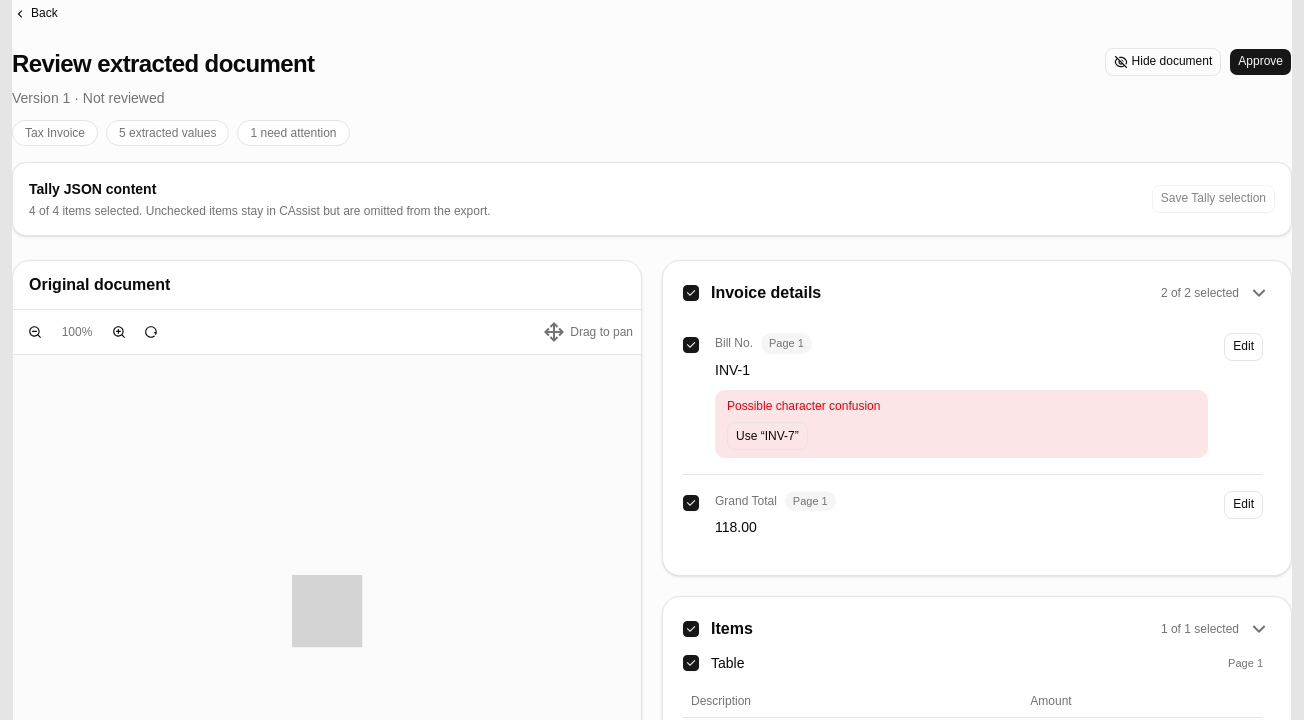
Test case: ReviewPage › collapses sections and moves between field editors with Tab
The width and height of the screenshot is (1304, 720).
Step 1. Click the button with aria-label "Collapse Invoice details section" → [766, 292], box 711,281 -> 1271,305
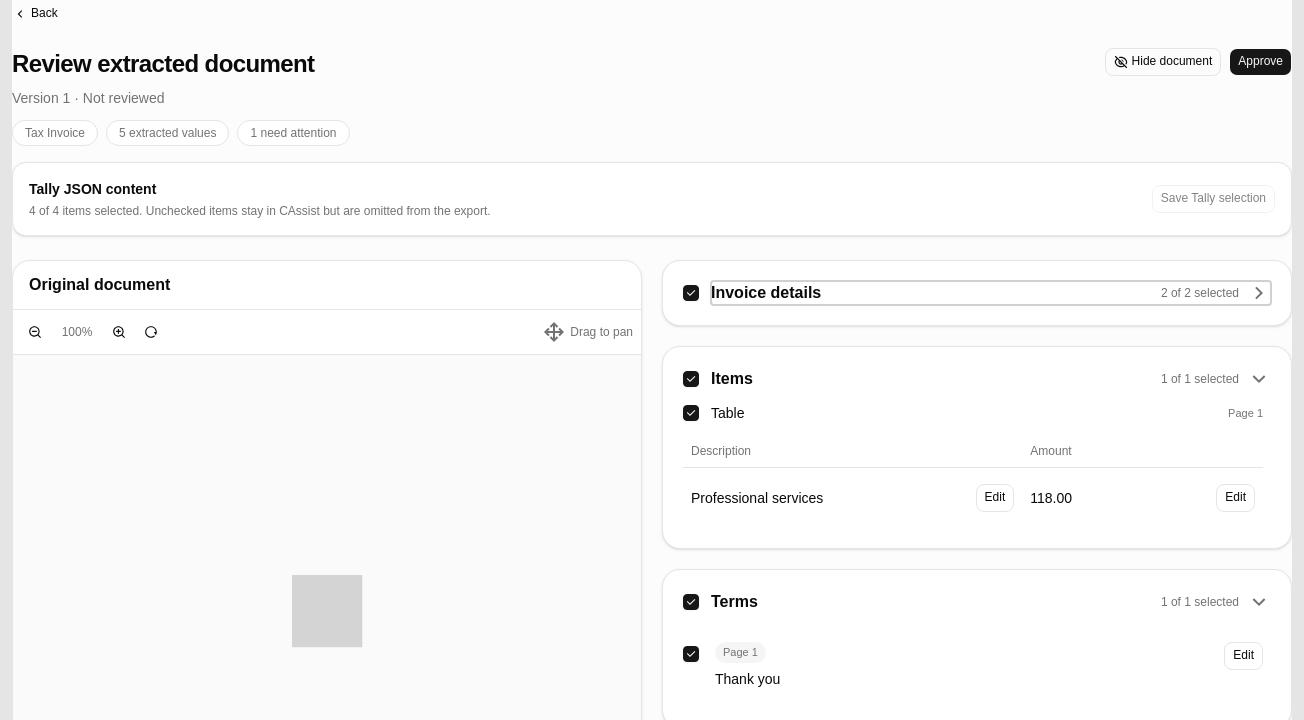
Check: the text "Bill No." is gone
Step 2. Click the button with aria-label "Expand Invoice details section" → [766, 292], box 711,281 -> 1271,305
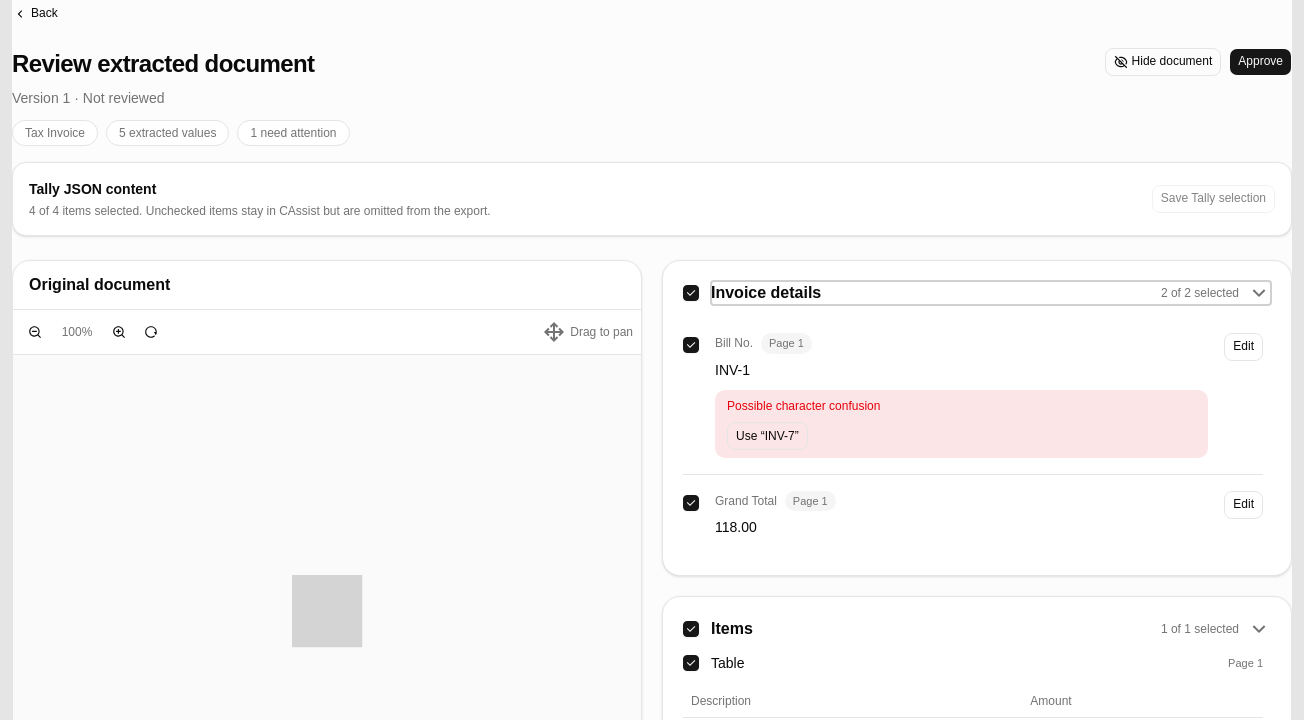
Step 3. Click the button "Edit" in the row of "Bill No." → [1244, 347], box 1224,333 -> 1263,361
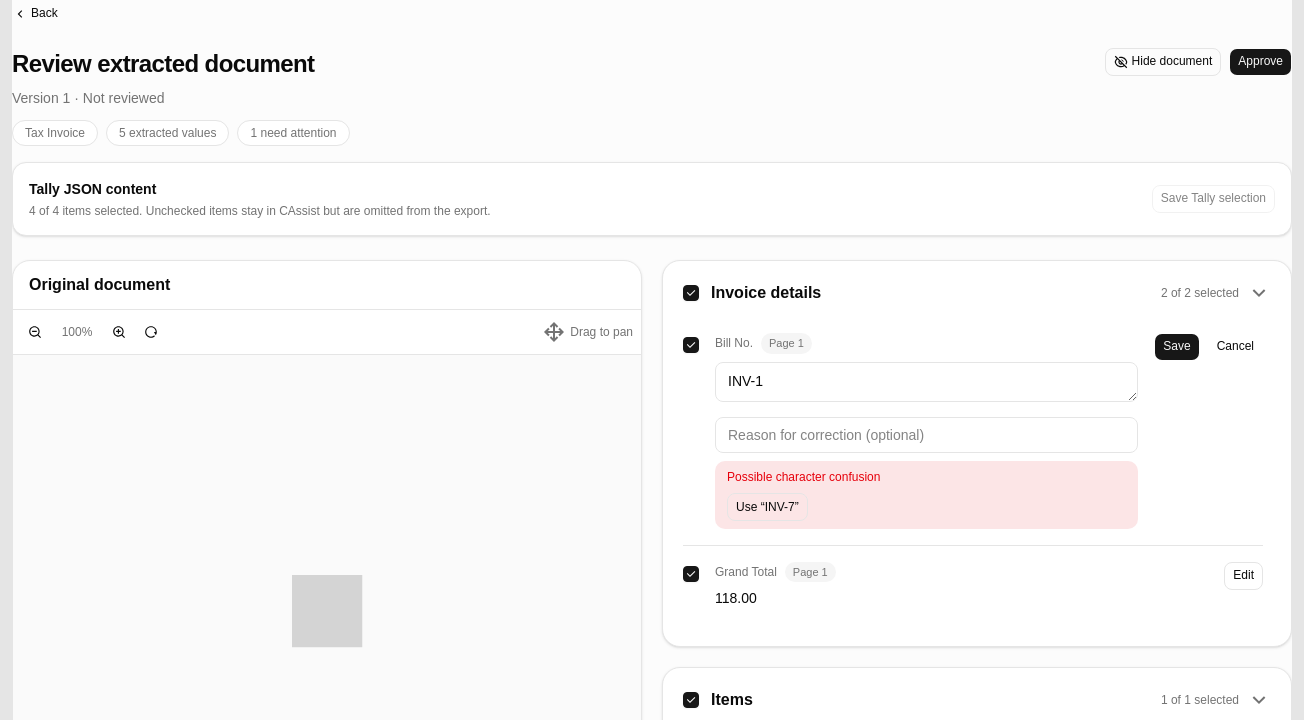
Step 4. Press Tab in the text box named "Bill No.", box 715,362 -> 1138,402
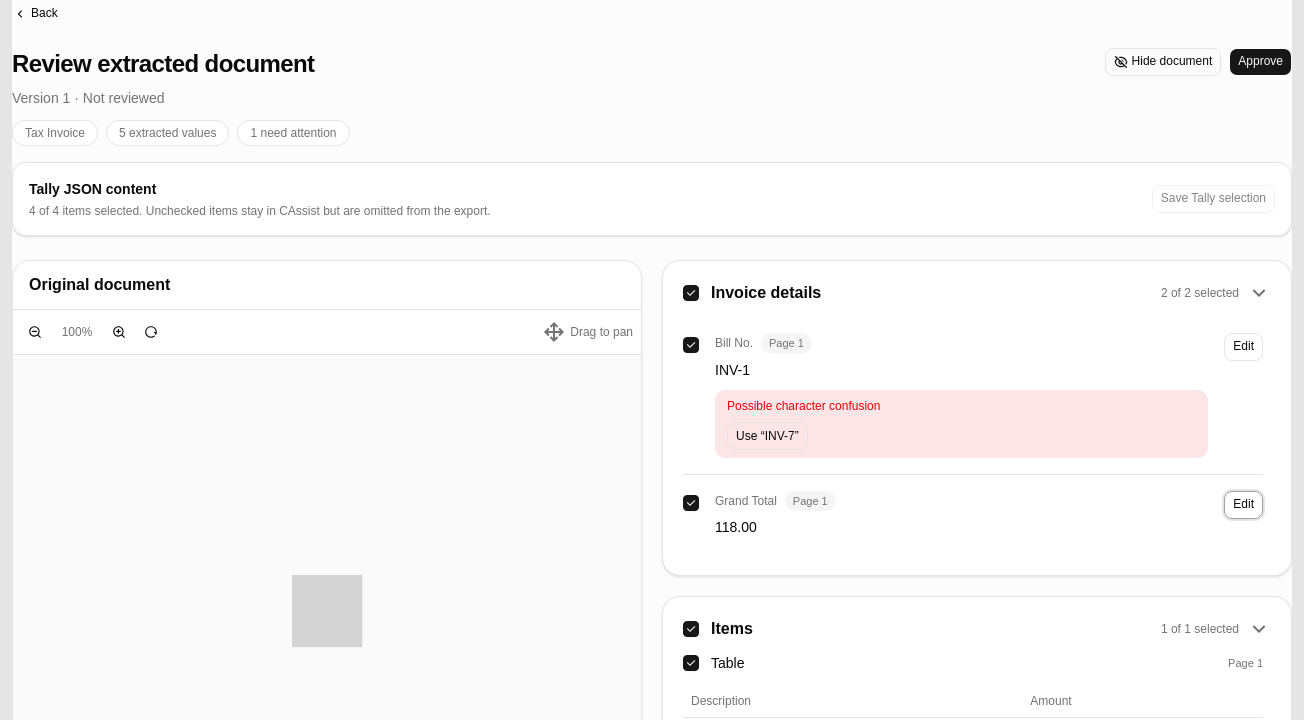
Step 5. Click the button "Edit" in the row of "Grand Total" → [1244, 504], box 1224,490 -> 1263,518
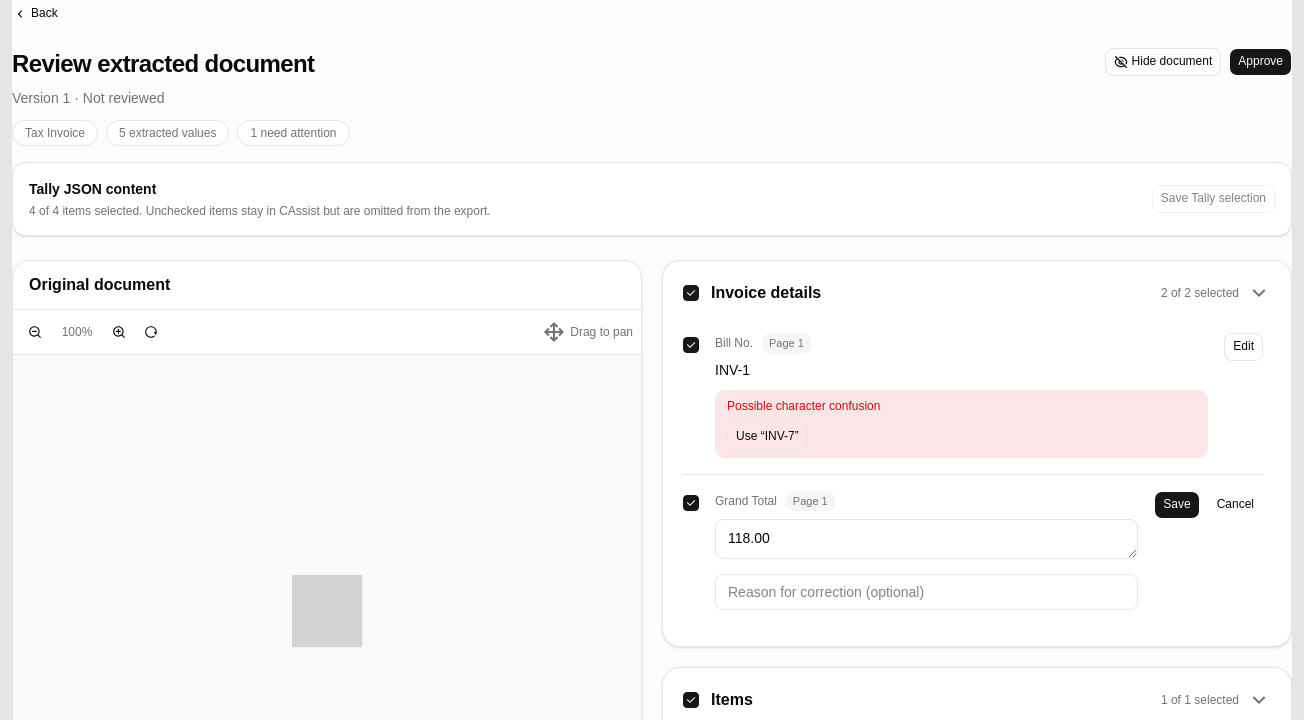
Check: the text box named "Grand Total" is shown, box 715,519 -> 1138,559
